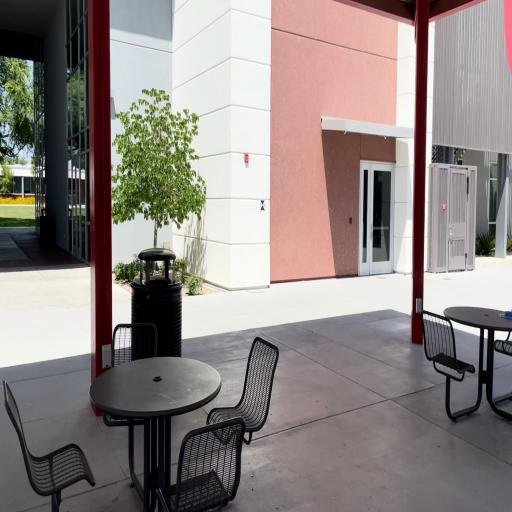target9: (260, 200, 265, 211)
